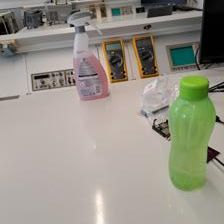bottle: (163, 75, 217, 192)
